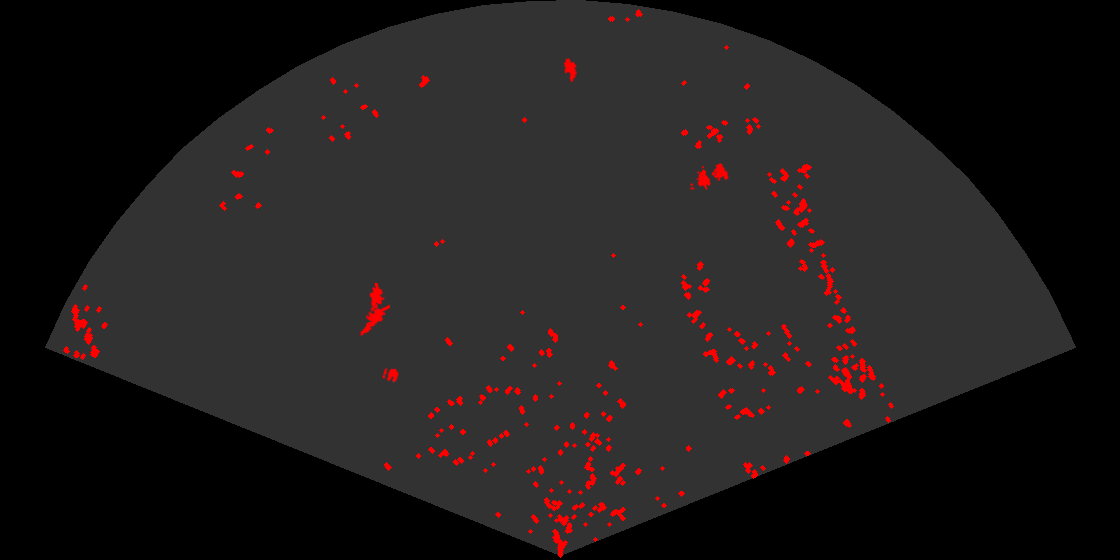AUV: (562, 57, 577, 84)
ball: (381, 366, 400, 384)
cage: (690, 162, 730, 190)
frogman: (355, 303, 390, 337), (368, 283, 386, 322)
